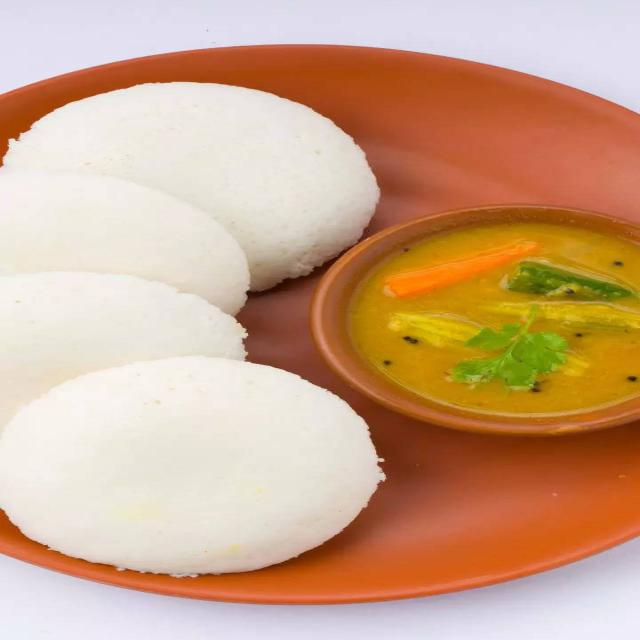IDLI: (0, 359, 383, 576), (11, 79, 381, 303), (0, 152, 262, 435)
